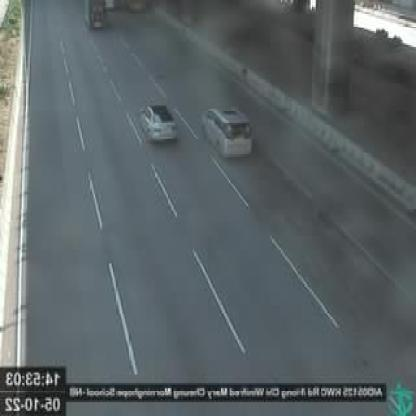Car: (203, 107, 253, 158), (140, 102, 177, 137)
